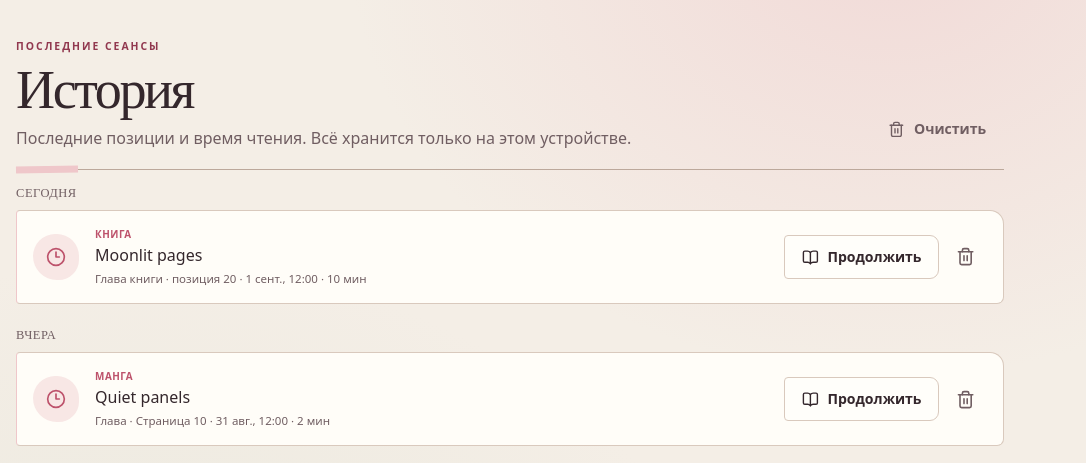
Test case: persistent library pages › groups reading sessions and removes one history row without touching the work
Expected: the heading "Сегодня" is shown, [16,186,77,200]
Expected: the heading "Вчера" is shown, [16,328,56,342]
What coordinates should you click on to do the following:
click the button named "Удалить Moonlit pages из истории"
I would click on:
 (966, 257)
Its box is [945,236,987,278].
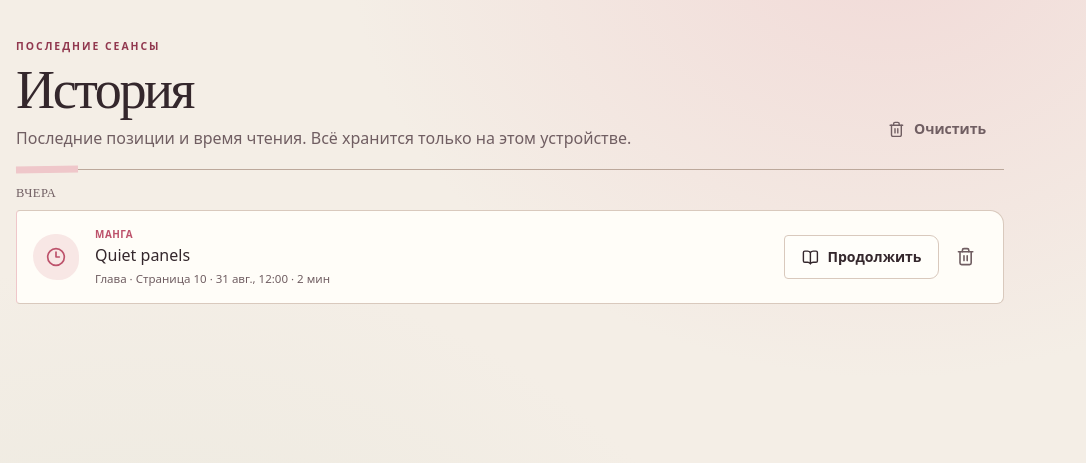
Expected: the link "Quiet panels" is shown, [95,244,190,266]
Now the link "Moonlit pages" is gone
